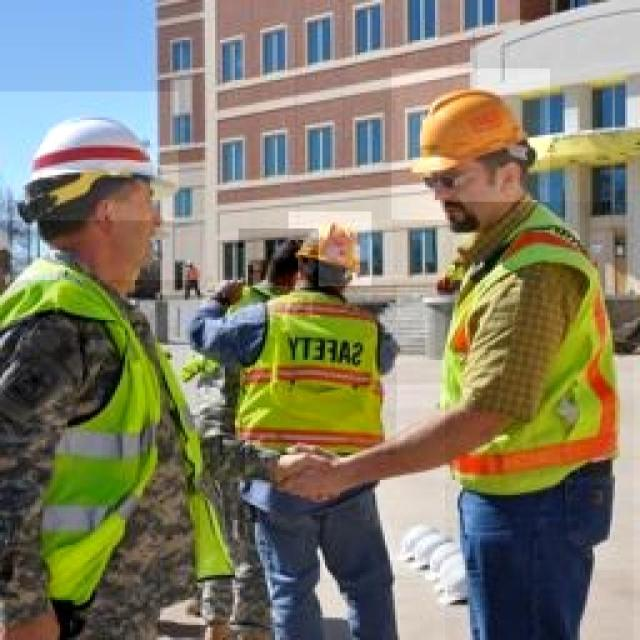Helmet: (392, 68, 550, 220), (0, 91, 178, 220), (288, 212, 372, 302), (238, 229, 318, 303)
Safety Vest: (445, 202, 633, 640), (0, 280, 200, 640), (220, 286, 396, 455)
